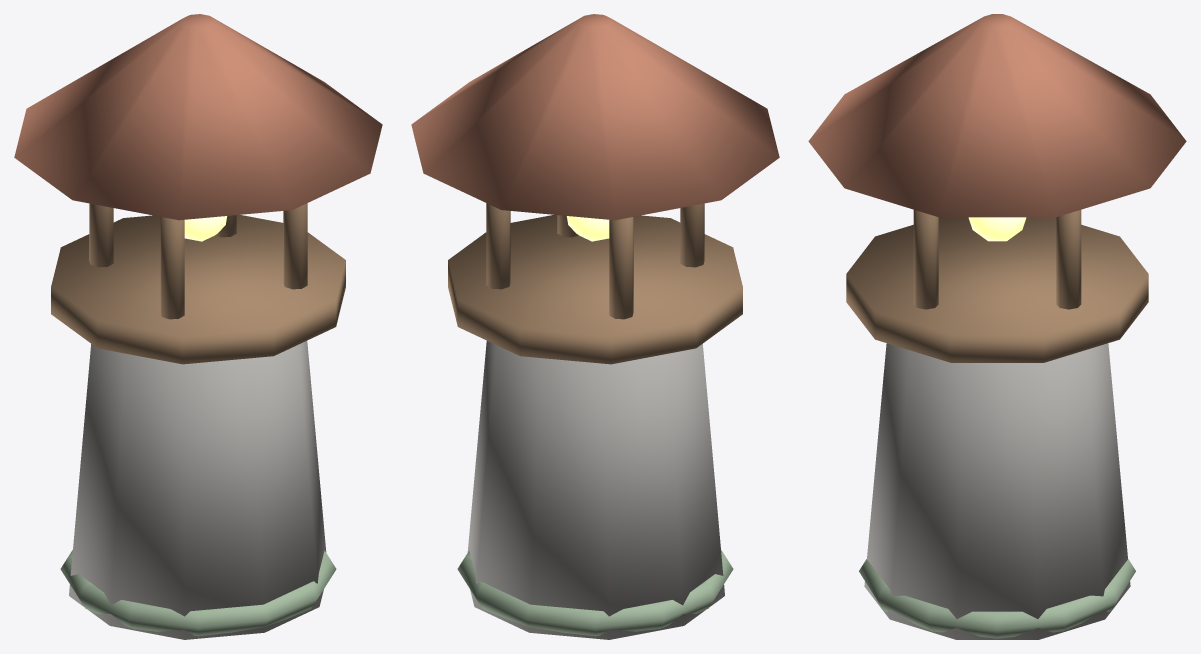
The model's file is watchtower.glb.
The picture shows the model from 3 angles, left to right: view 1: azimuth 30°, elevation 25°; view 2: azimuth 150°, elevation 25°; view 3: azimuth 270°, elevation 25°; orthographic projection.
Visible parts, largest first — view 1: Cylinder, Cone, Cylinder.001, Torus, Cylinder.004, Cylinder.005, Cylinder.003, Icosphere; view 2: Cylinder, Cone, Cylinder.001, Torus, Cylinder.003, Cylinder.002, Cylinder.004, Icosphere; view 3: Cylinder, Cone, Cylinder.001, Torus, Cylinder.002, Cylinder.005, Icosphere.
Part boxes in pixels (x1,y1,x2,y2): Cylinder: [69, 341, 326, 639]; Cone: [14, 14, 382, 220]; Cylinder.001: [51, 215, 345, 364]; Torus: [60, 550, 336, 636]; Cylinder.004: [160, 217, 184, 319]; Cylinder.005: [283, 203, 307, 289]; Cylinder.003: [89, 203, 113, 267]; Icosphere: [184, 216, 227, 241]; Cylinder: [467, 341, 724, 639]; Cone: [411, 14, 779, 220]; Cylinder.001: [448, 215, 742, 364]; Torus: [457, 550, 733, 636]; Cylinder.003: [609, 217, 633, 319]; Cylinder.002: [486, 203, 510, 289]; Cylinder.004: [680, 203, 704, 267]; Icosphere: [566, 216, 609, 241]; Cylinder: [864, 343, 1130, 639]; Cone: [808, 14, 1186, 217]; Cylinder.001: [846, 217, 1148, 362]; Torus: [859, 559, 1135, 638]; Cylinder.002: [1056, 210, 1081, 309]; Cylinder.005: [913, 210, 938, 309]; Icosphere: [968, 217, 1026, 241].
Bounding box in the file's own units: 2.57 × 4.46 × 2.7.
